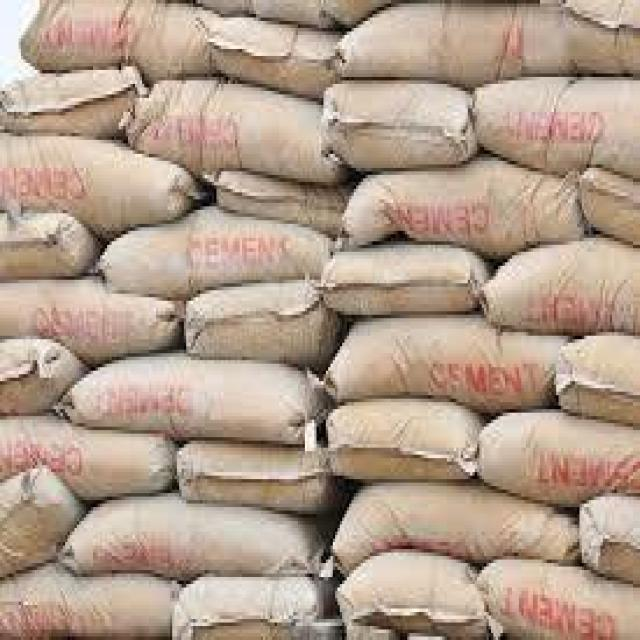gunny_bag: (324, 310, 569, 408), (63, 350, 324, 441), (336, 483, 578, 580), (130, 72, 341, 183), (348, 153, 582, 251), (59, 493, 327, 576), (103, 203, 337, 295), (335, 7, 566, 83), (0, 135, 195, 225), (472, 70, 638, 170), (0, 275, 180, 358), (477, 411, 637, 501), (0, 413, 172, 496), (485, 235, 640, 326), (322, 77, 473, 170), (24, 5, 217, 73), (2, 560, 178, 633), (183, 278, 337, 361), (337, 553, 492, 635), (481, 563, 639, 640), (328, 243, 488, 316), (329, 403, 479, 476), (177, 441, 329, 513), (208, 17, 340, 98), (176, 576, 330, 638), (1, 70, 141, 132), (560, 331, 639, 425), (216, 172, 347, 228), (2, 216, 96, 278), (575, 490, 638, 575)
